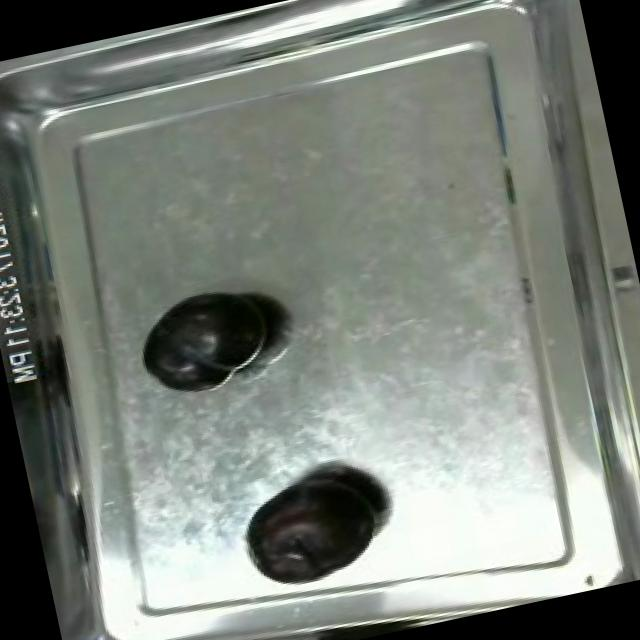Fruit: (228, 456, 399, 592), (126, 274, 286, 402)
